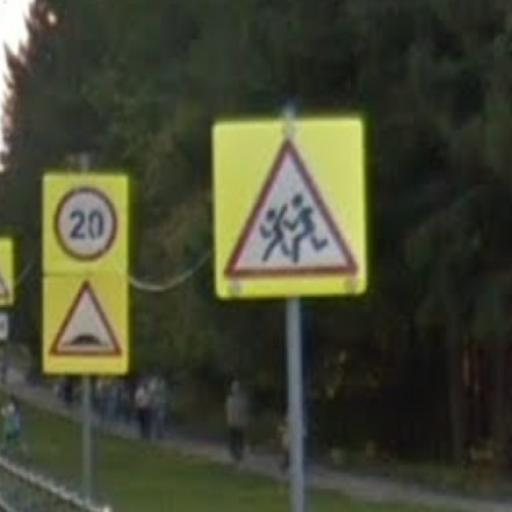traffic_sign: (223, 134, 363, 283), (46, 278, 124, 361), (54, 185, 120, 266)
